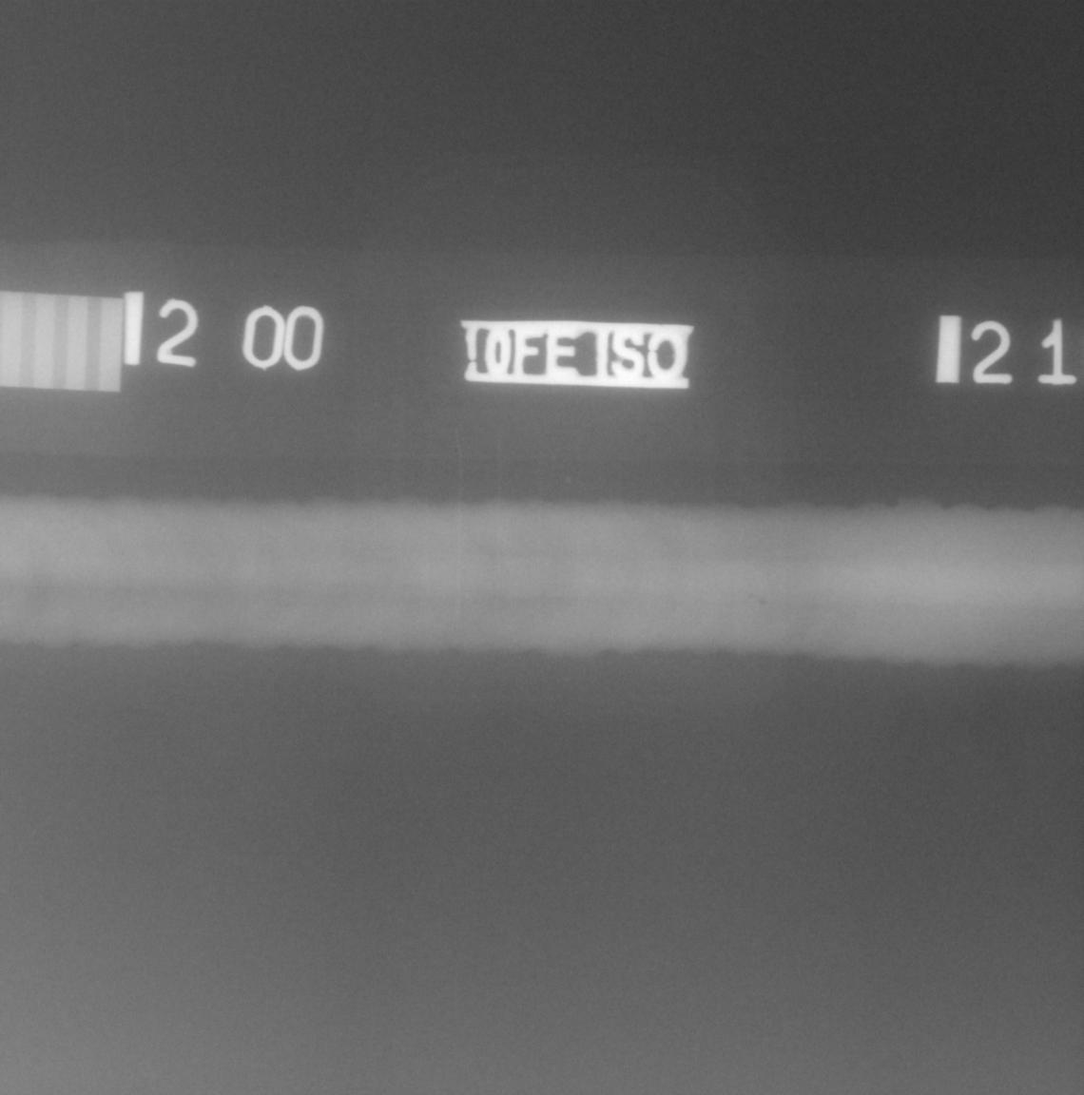Pore/Porosity: (748, 593, 754, 599), (759, 599, 767, 603)
